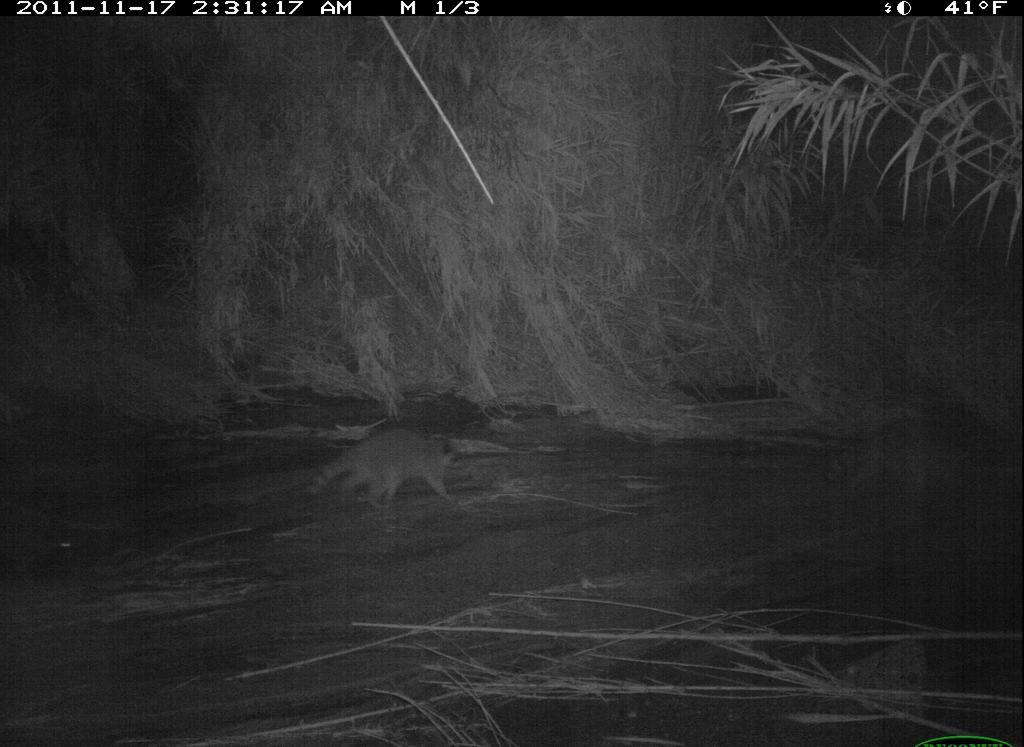raccoon: (296, 411, 477, 528)
